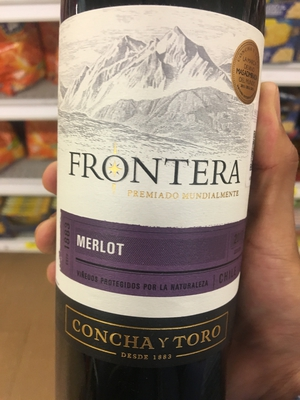frontera merlot: (53, 1, 269, 400)
